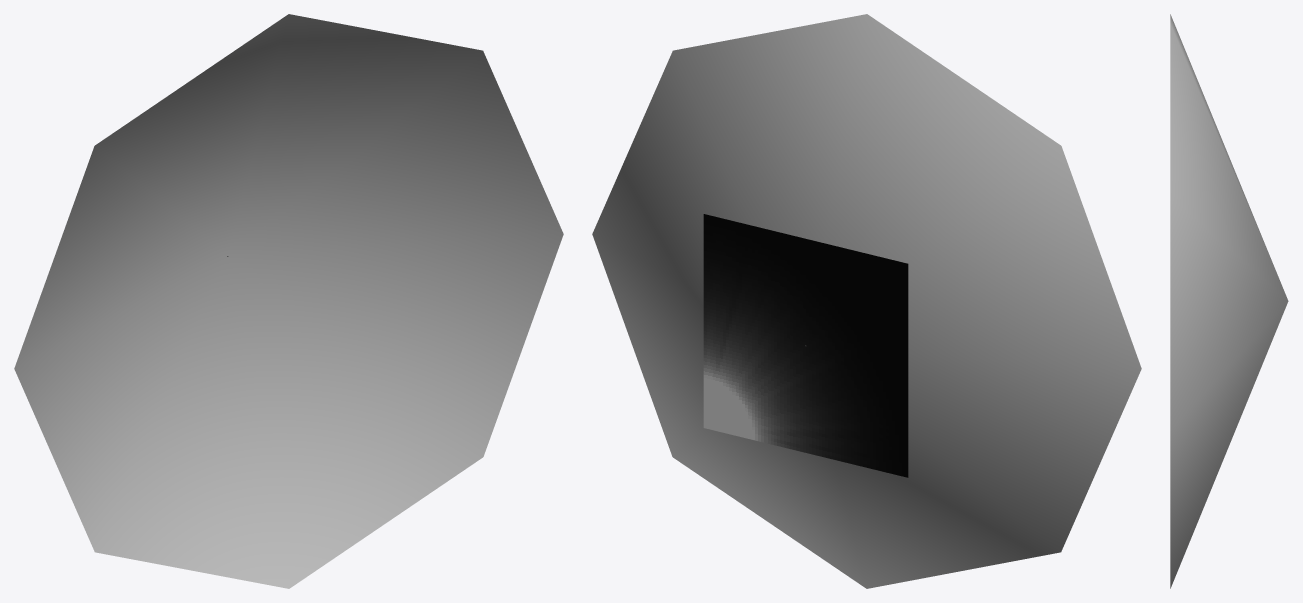
The model's file is sun__sun_model.glb.
3 views of the same model, side by side, from view 1: azimuth 30°, elevation 25°; view 2: azimuth 150°, elevation 25°; view 3: azimuth 270°, elevation 25° (orthographic). The views are drawn at different scales.
Parts seen in each view (by area): view 1: Polygon1; view 2: Polygon1, Polygon0; view 3: Polygon1.
Part boxes in pixels (left/top/right/bottom): Polygon1: left=14, top=14, right=563, bottom=588; Polygon1: left=592, top=14, right=1141, bottom=588; Polygon0: left=703, top=214, right=908, bottom=477; Polygon1: left=1170, top=14, right=1288, bottom=588.
Bounding box in the file's own units: 34860 × 34860 × 6721.
Materials: 2 (1 with a texture image).
